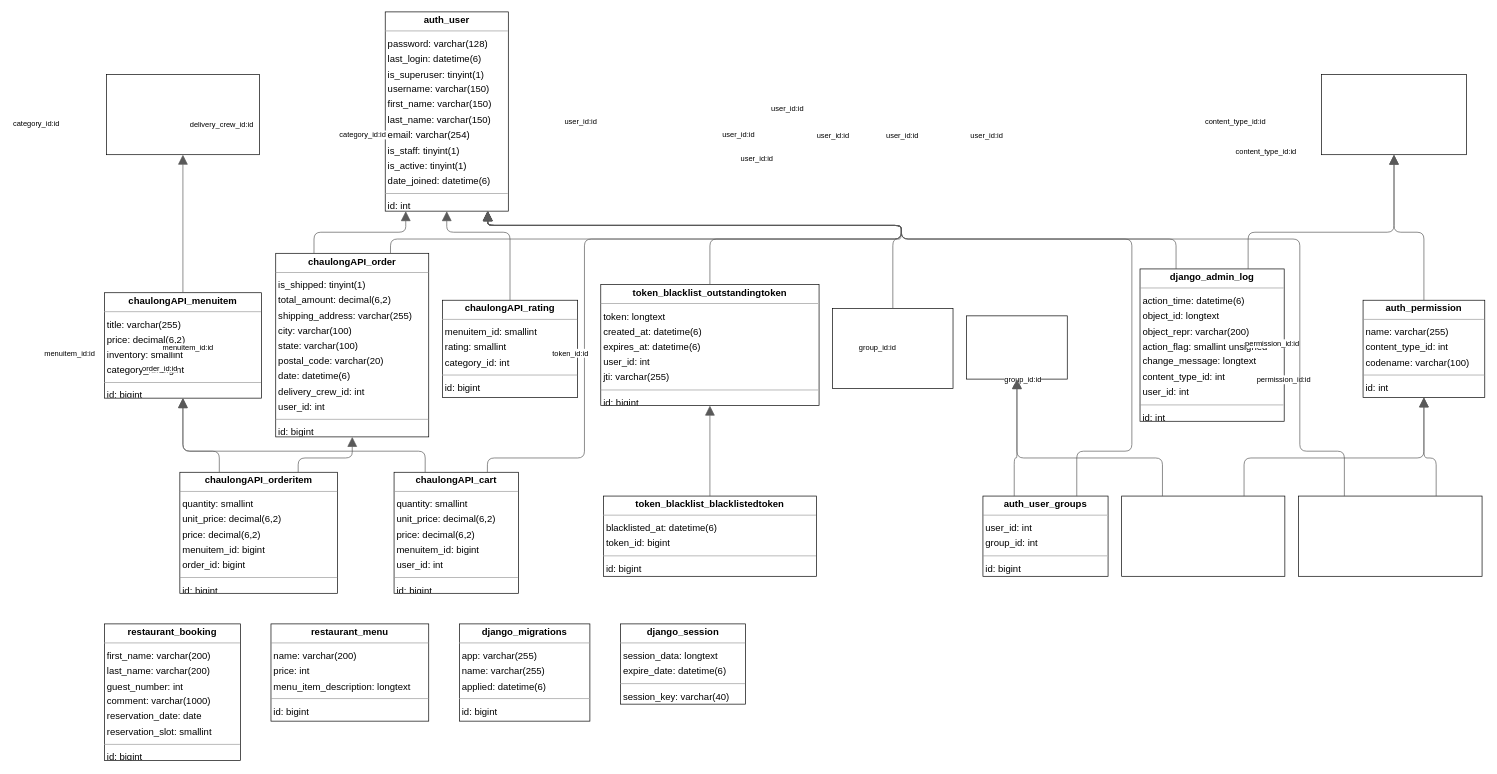
This 1497x774 diagram has some shape labels left out. Each missing label, with the centre of its shape:
"auth_group name: varchar(150) id: int" goes at point 1016,347.
"auth_group_permissions group_id: int permission_id: int id: bigint" goes at point 1203,535.
"auth_user_user_permissions user_id: int permission_id: int id: bigint" goes at point 1390,535.
"authtoken_token created: datetime(6) user_id: int key: varchar(40)" goes at point 892,348.
"chaulongAPI_category slug: varchar(50) title: varchar(255) id: bigint" goes at point 182,114.
"django_content_type app_label: varchar(100) model: varchar(100) id: int" goes at point 1393,114.
